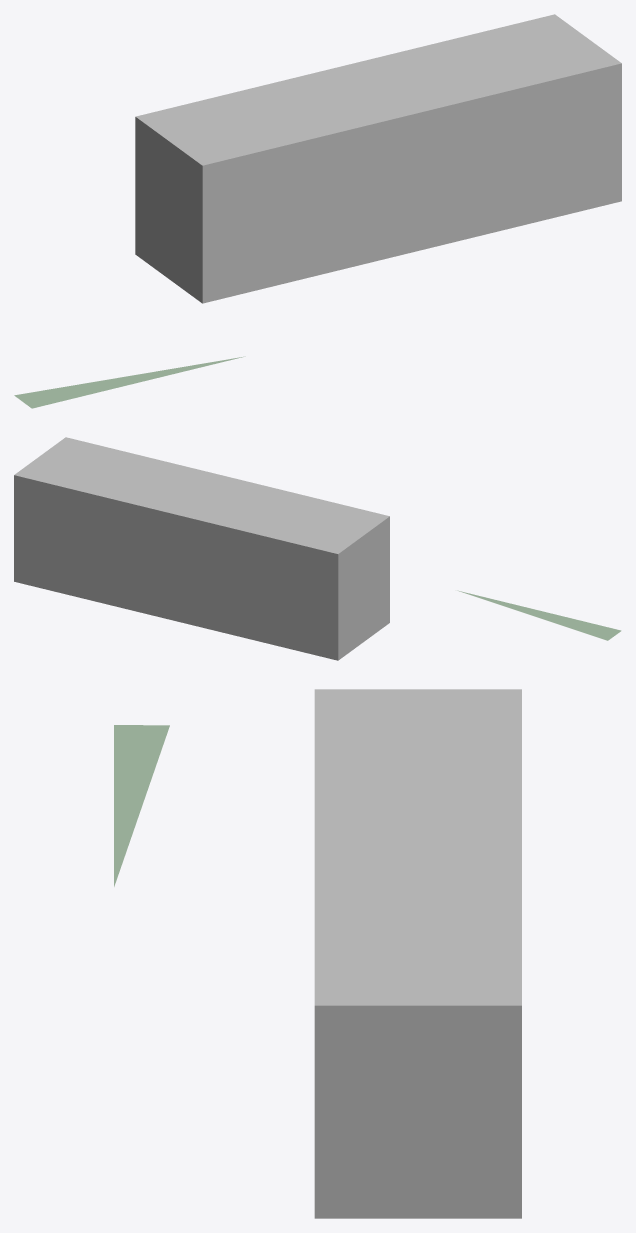
The model's file is 114_74_mid.glb.
The picture shows the model from 3 angles, top to bottom: view 1: azimuth 30°, elevation 25°; view 2: azimuth 150°, elevation 25°; view 3: azimuth 270°, elevation 25°; orthographic projection. The views are drawn at different scales.
Size of the model in its own units: 201 by 40.55 by 70.2.
